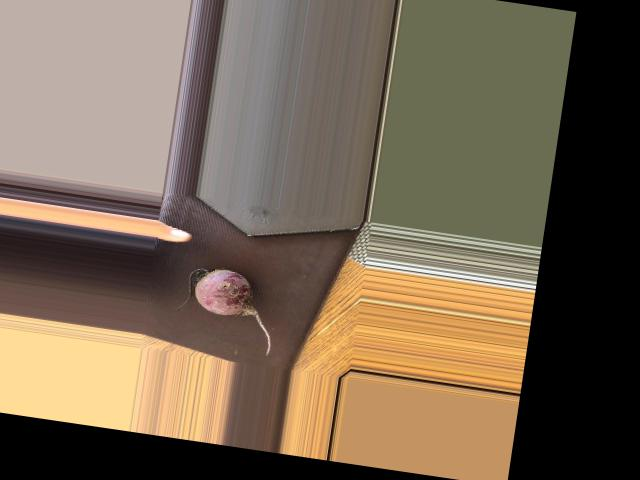beet: (172, 263, 281, 354)
